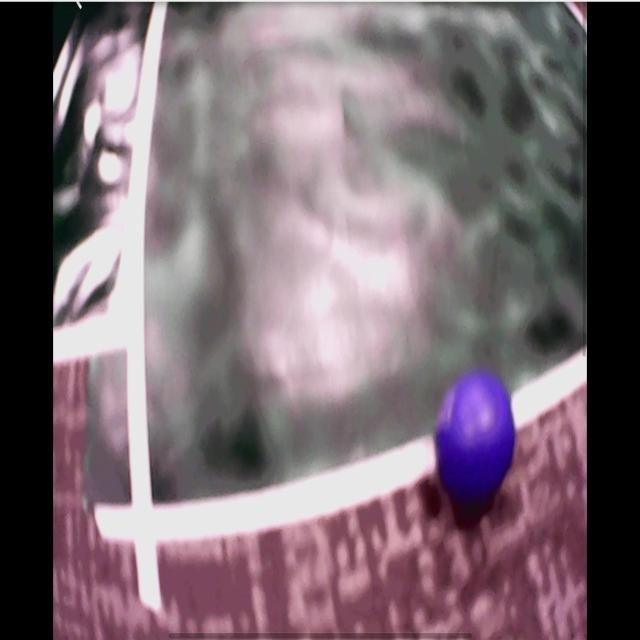ball: (435, 374, 516, 502)
